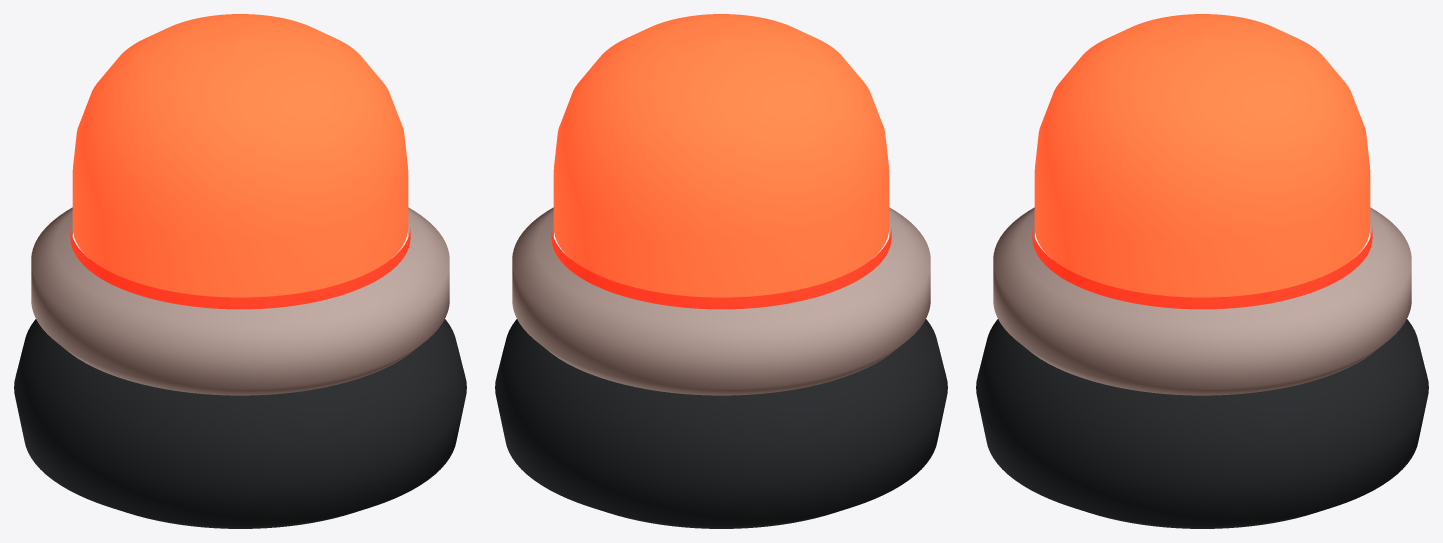
Rendered from BigRedButtonGlowLevel15.glb.
3 renders of one model, left to right at view 1: azimuth 30°, elevation 25°; view 2: azimuth 150°, elevation 25°; view 3: azimuth 270°, elevation 25°, orthographic.
Parts seen in each view (by area): view 1: button, button_base, metal_bezel, cap_side_shadow; view 2: button, button_base, metal_bezel, cap_side_shadow; view 3: button, button_base, metal_bezel, cap_side_shadow.
Boxes of the visible parts, x1,y1,x2,y2 form: button: [72, 14, 408, 297]; button_base: [14, 319, 466, 528]; metal_bezel: [31, 207, 449, 395]; cap_side_shadow: [70, 228, 410, 309]; button: [553, 14, 889, 297]; button_base: [495, 319, 947, 528]; metal_bezel: [512, 207, 930, 395]; cap_side_shadow: [551, 228, 891, 309]; button: [1034, 14, 1370, 297]; button_base: [976, 319, 1428, 528]; metal_bezel: [993, 207, 1411, 395]; cap_side_shadow: [1032, 228, 1372, 309].
Bounding box in the file's own units: 0.0185 × 0.0185 × 0.0185.
